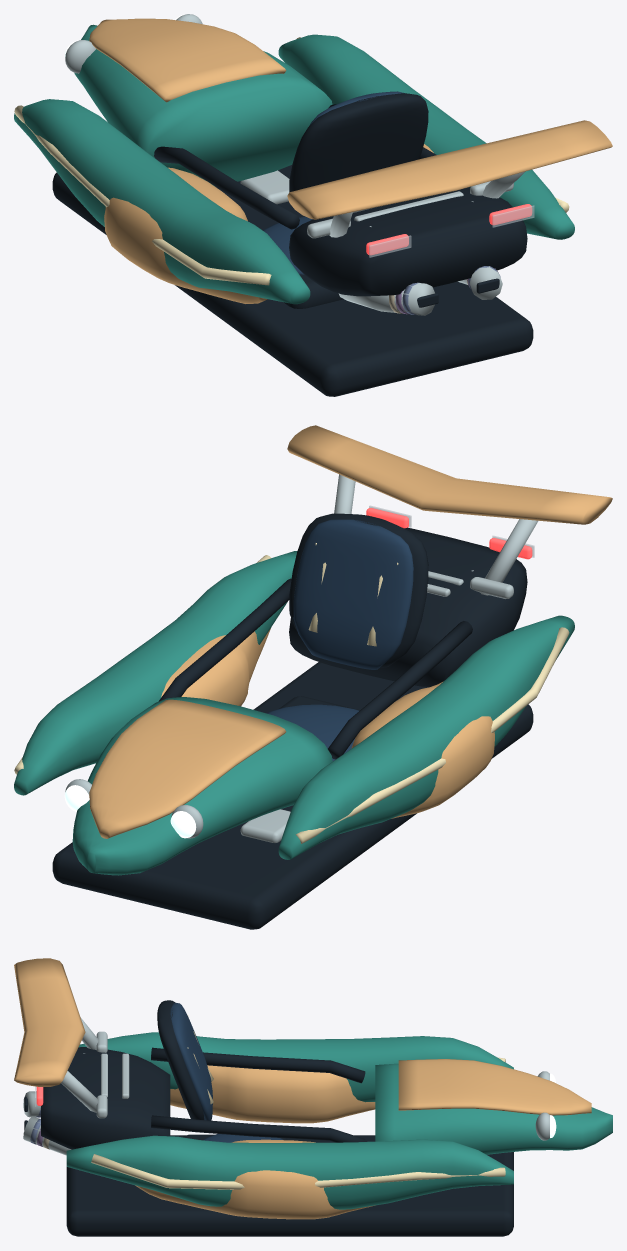
File: hafenflitzer.glb
3 renders of one model, top to bottom at view 1: azimuth 30°, elevation 25°; view 2: azimuth 150°, elevation 25°; view 3: azimuth 270°, elevation 25°, orthographic. The views are drawn at different scales.
Parts seen in each view (by area): view 1: LOD0, ShowroomDetail; view 2: LOD0; view 3: LOD0.
Boxes of the visible parts, box(x1,y1,x2,y2) form: LOD0: box(14, 14, 612, 396); ShowroomDetail: box(369, 205, 534, 315); LOD0: box(14, 425, 612, 929); LOD0: box(14, 958, 612, 1236).
Size of what is drawn, in the model's own units: 1.36 by 0.868 by 2.54.
